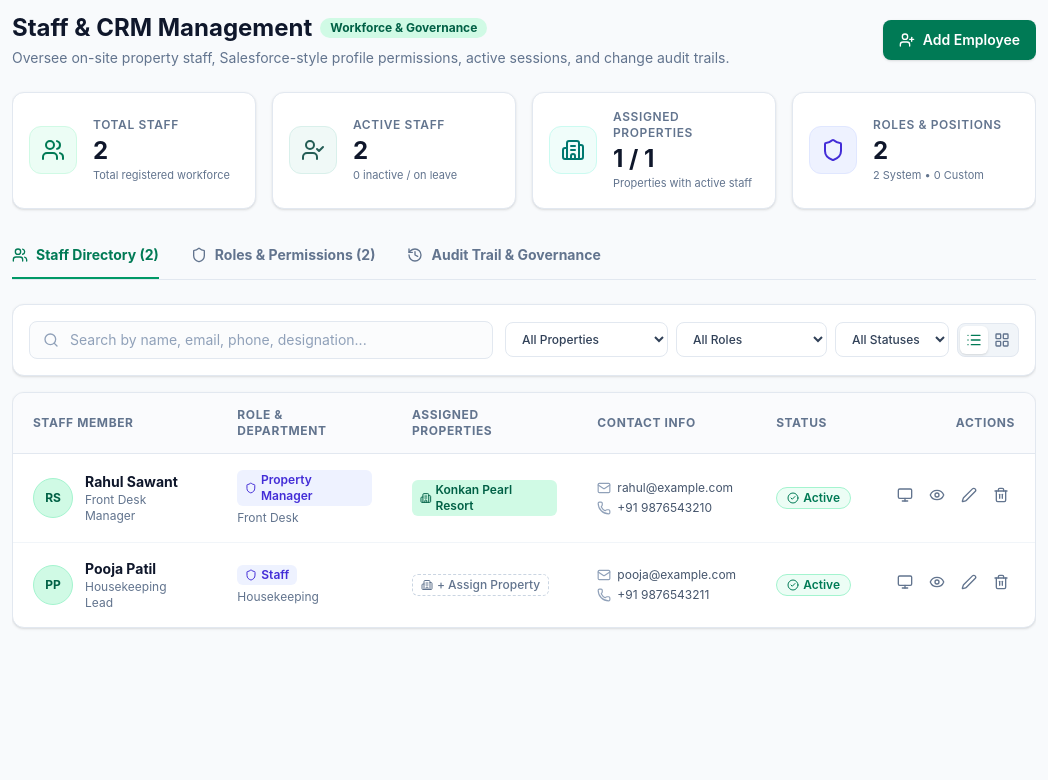
Test: EmployeesPage Component Suite › switches to Roles & Permissions tab and displays role items
This screenshot has width=1048, height=780.
Expected: the button "Rahul Sawant" is shown, [85, 472, 178, 492]
Click the button "Roles & Permissions (2)" at x=283, y=256, box [191, 232, 375, 278]
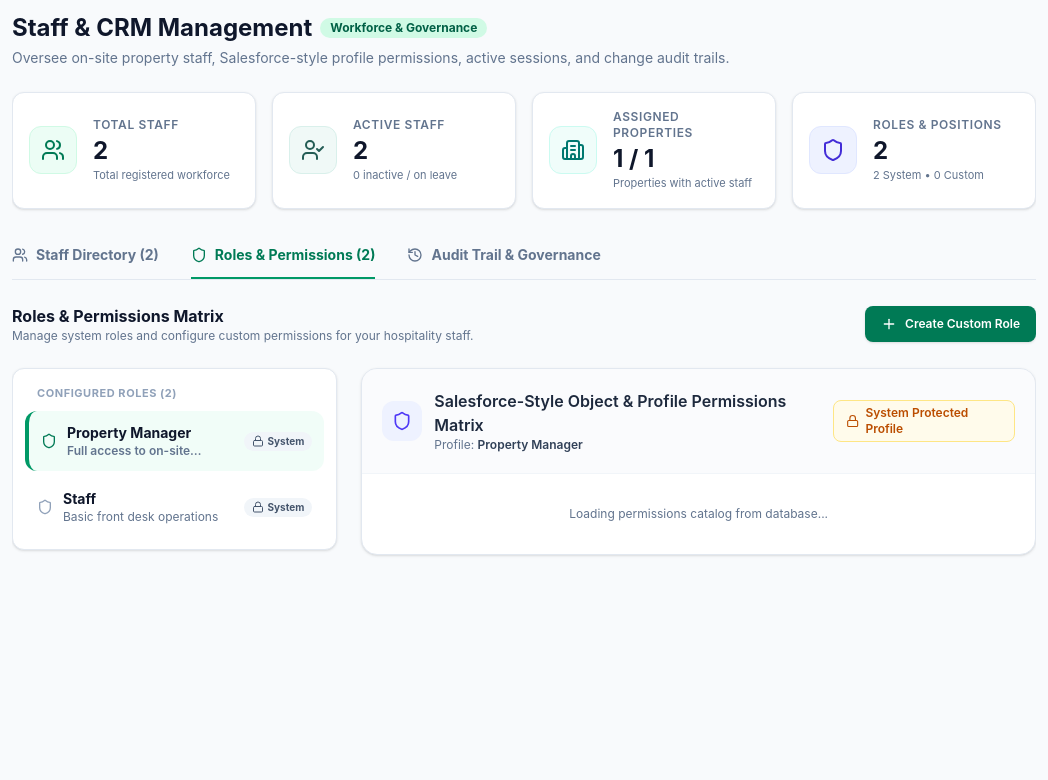
Expected: the heading "Roles & Permissions Matrix" is shown, [12, 306, 224, 326]
Expected: the text "Property Manager" below "Configured Roles (" is shown, [67, 424, 191, 441]
